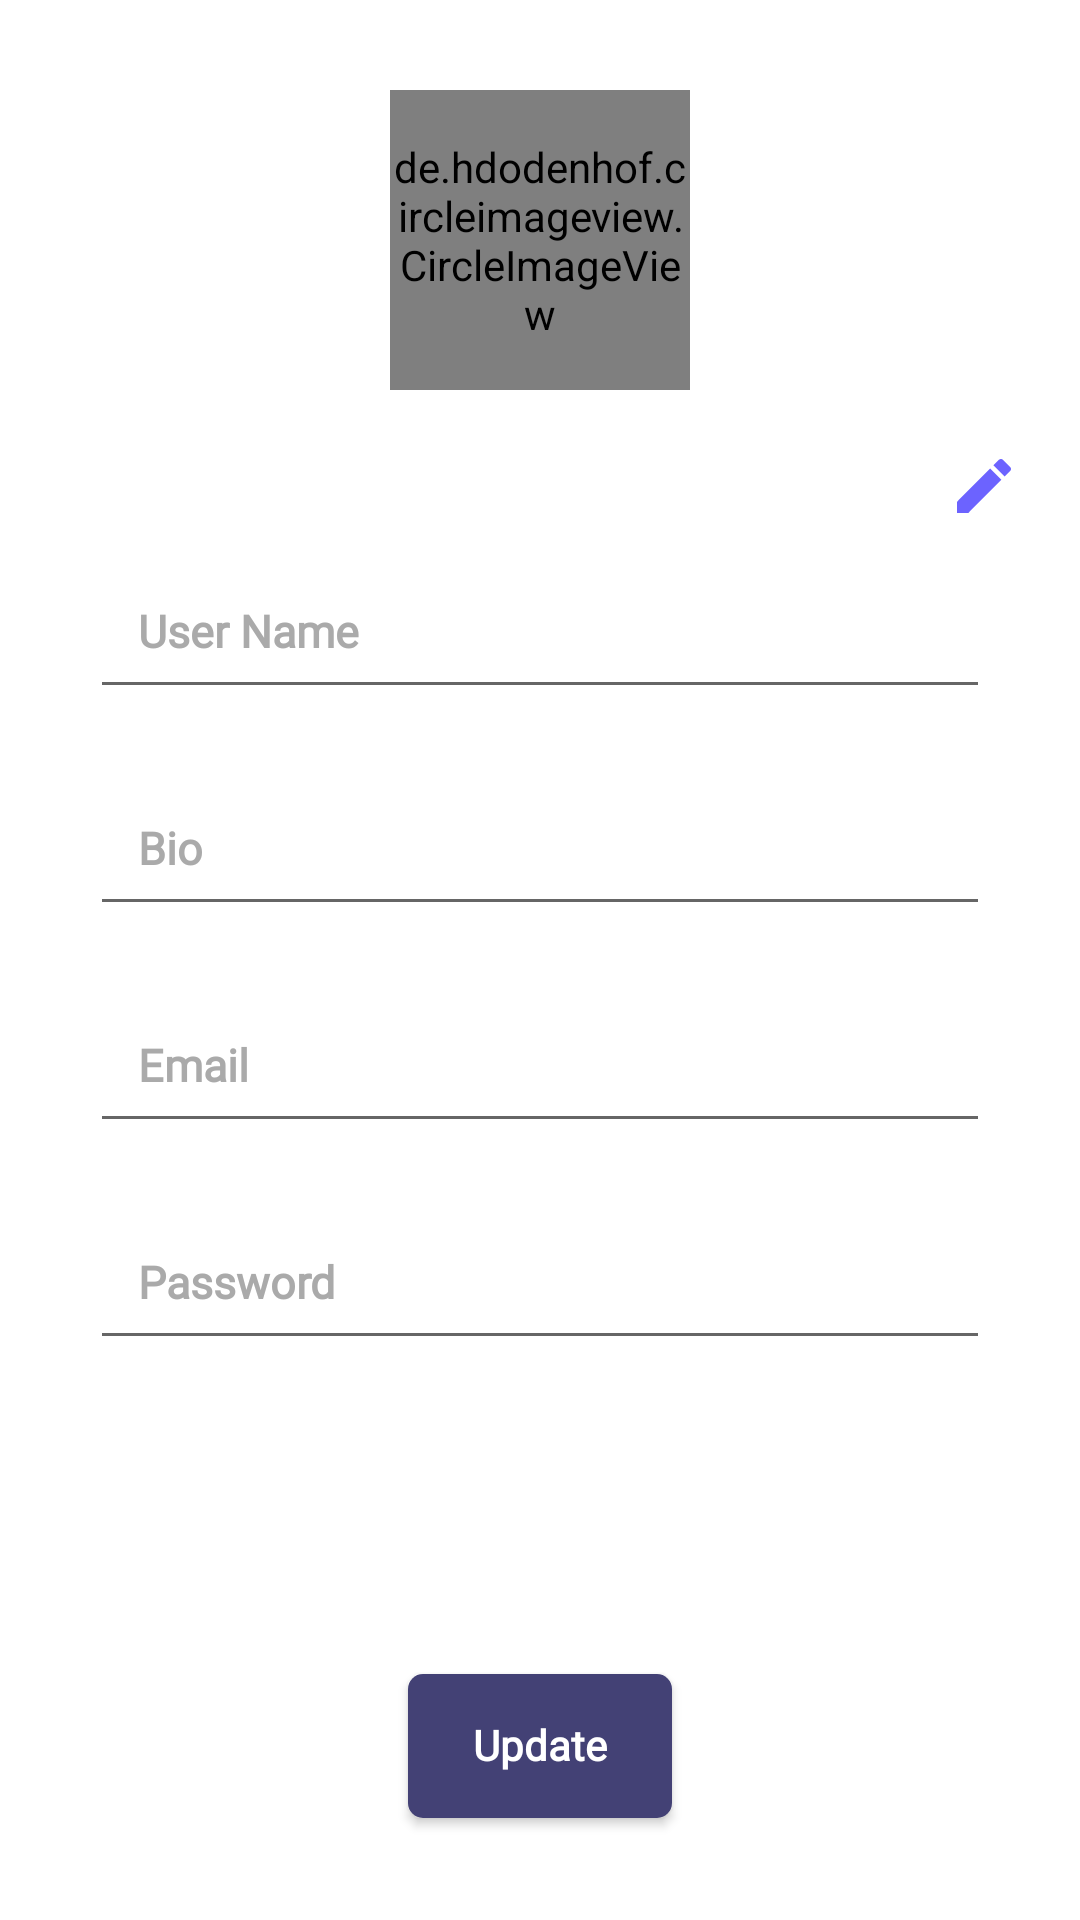

Icons on this 1080px x 1920px Android screen, each with its box as bbox=[x1, y1, x2, y2]:
edite profile: bbox=[957, 459, 1011, 513]
